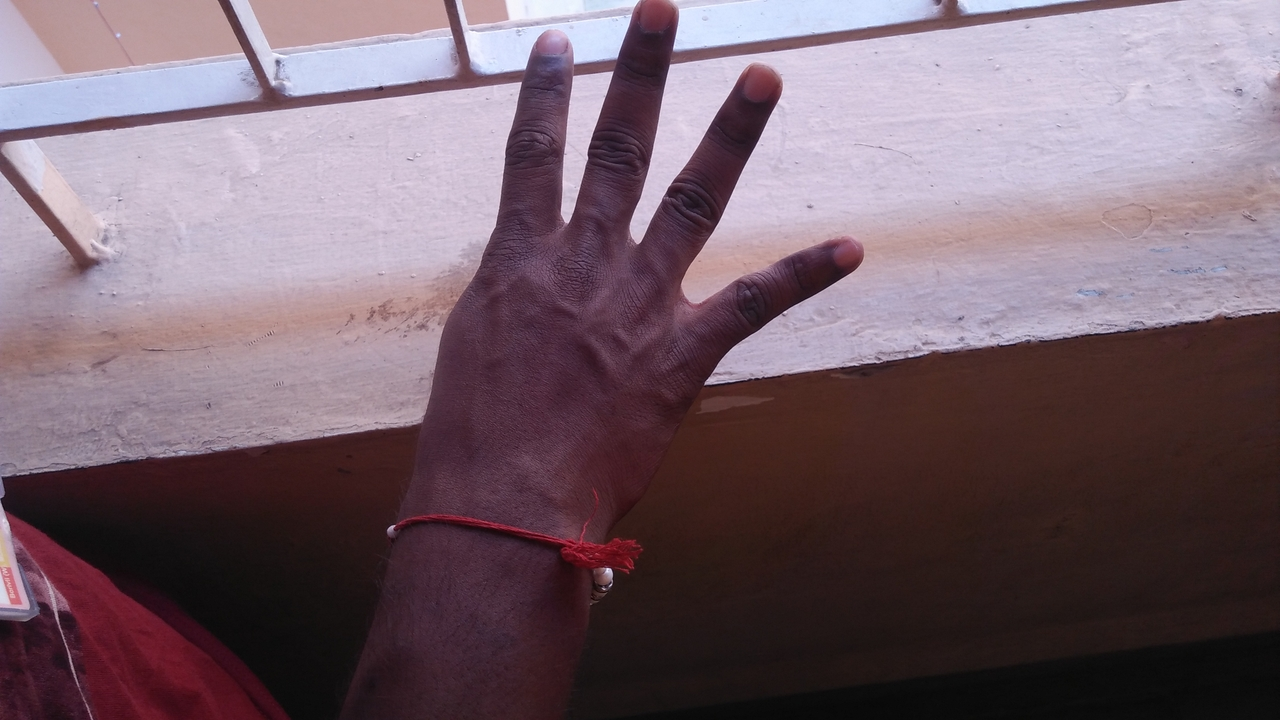fingertip: (730, 56, 788, 108), (816, 226, 864, 286), (628, 1, 682, 44), (528, 24, 574, 74)
